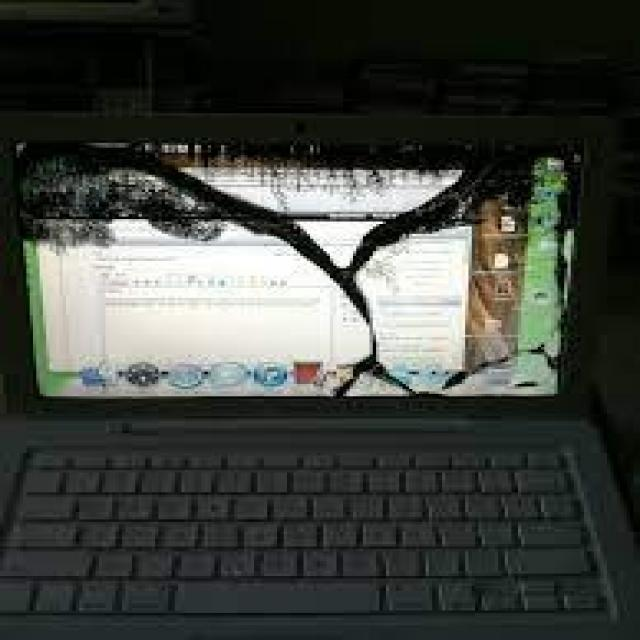Screen cracks: (6, 130, 578, 399)
